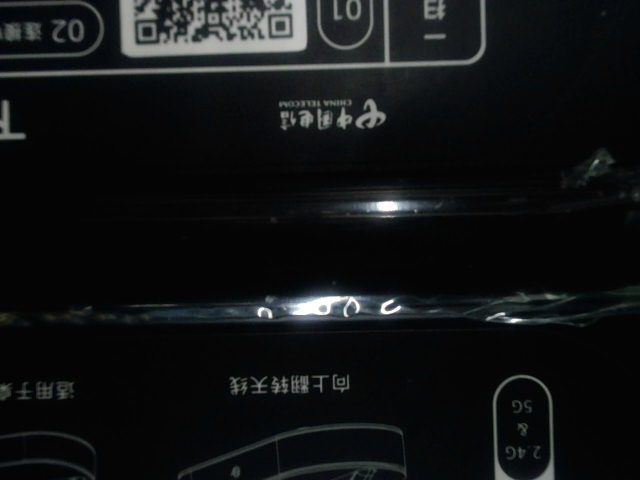AB_ChinaTelecom: (271, 96, 389, 135)
